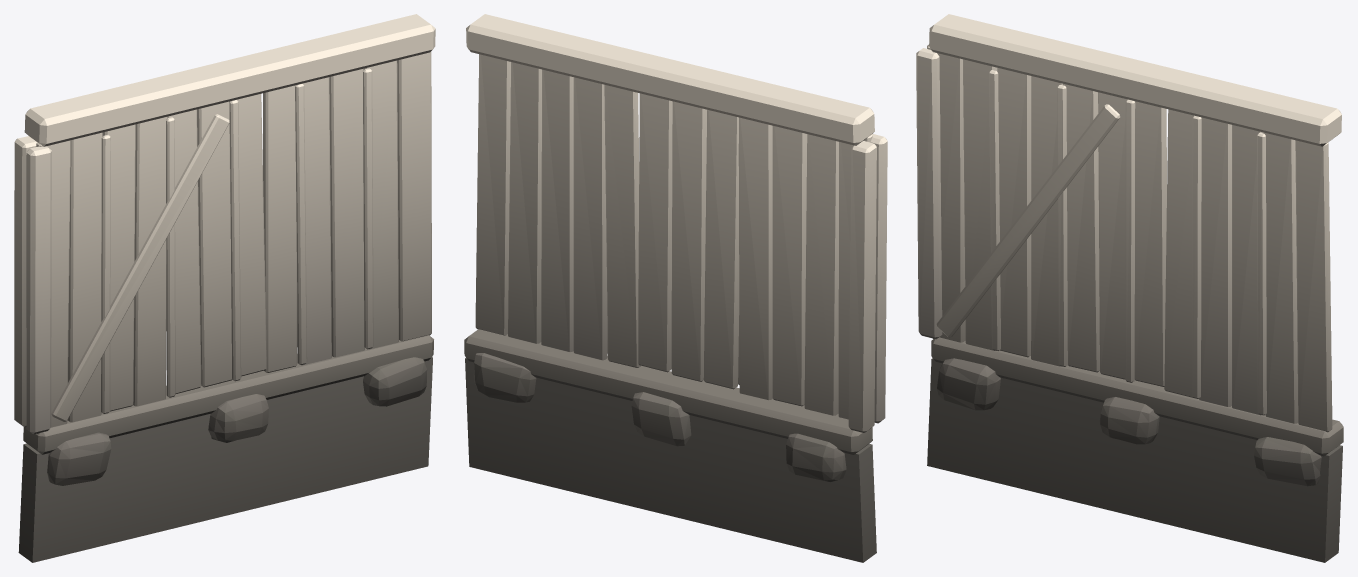
File: SM_VK_Wall_Shed.fbx
3 views of the same model, side by side, from view 1: azimuth 30°, elevation 25°; view 2: azimuth 150°, elevation 25°; view 3: azimuth 330°, elevation 25° (orthographic).
Parts seen in each view (by area): view 1: SM_VK_Wall_Shed.001; view 2: SM_VK_Wall_Shed.001; view 3: SM_VK_Wall_Shed.001.
Boxes of the visible parts, bbox=[...] form: SM_VK_Wall_Shed.001: bbox=[14, 14, 435, 562]; SM_VK_Wall_Shed.001: bbox=[464, 14, 887, 562]; SM_VK_Wall_Shed.001: bbox=[916, 14, 1343, 562].
Bounding box in the file's own units: 3.09 × 3.21 × 0.4576.
